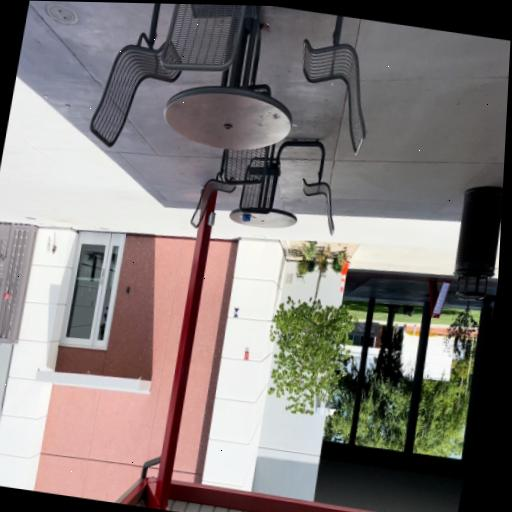target9: (233, 307, 240, 318)
